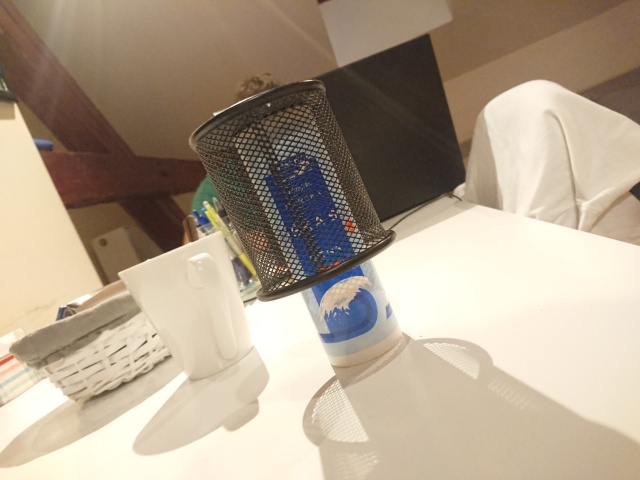Solana Pag Fine Sea Salt 250g: (229, 100, 407, 371)
